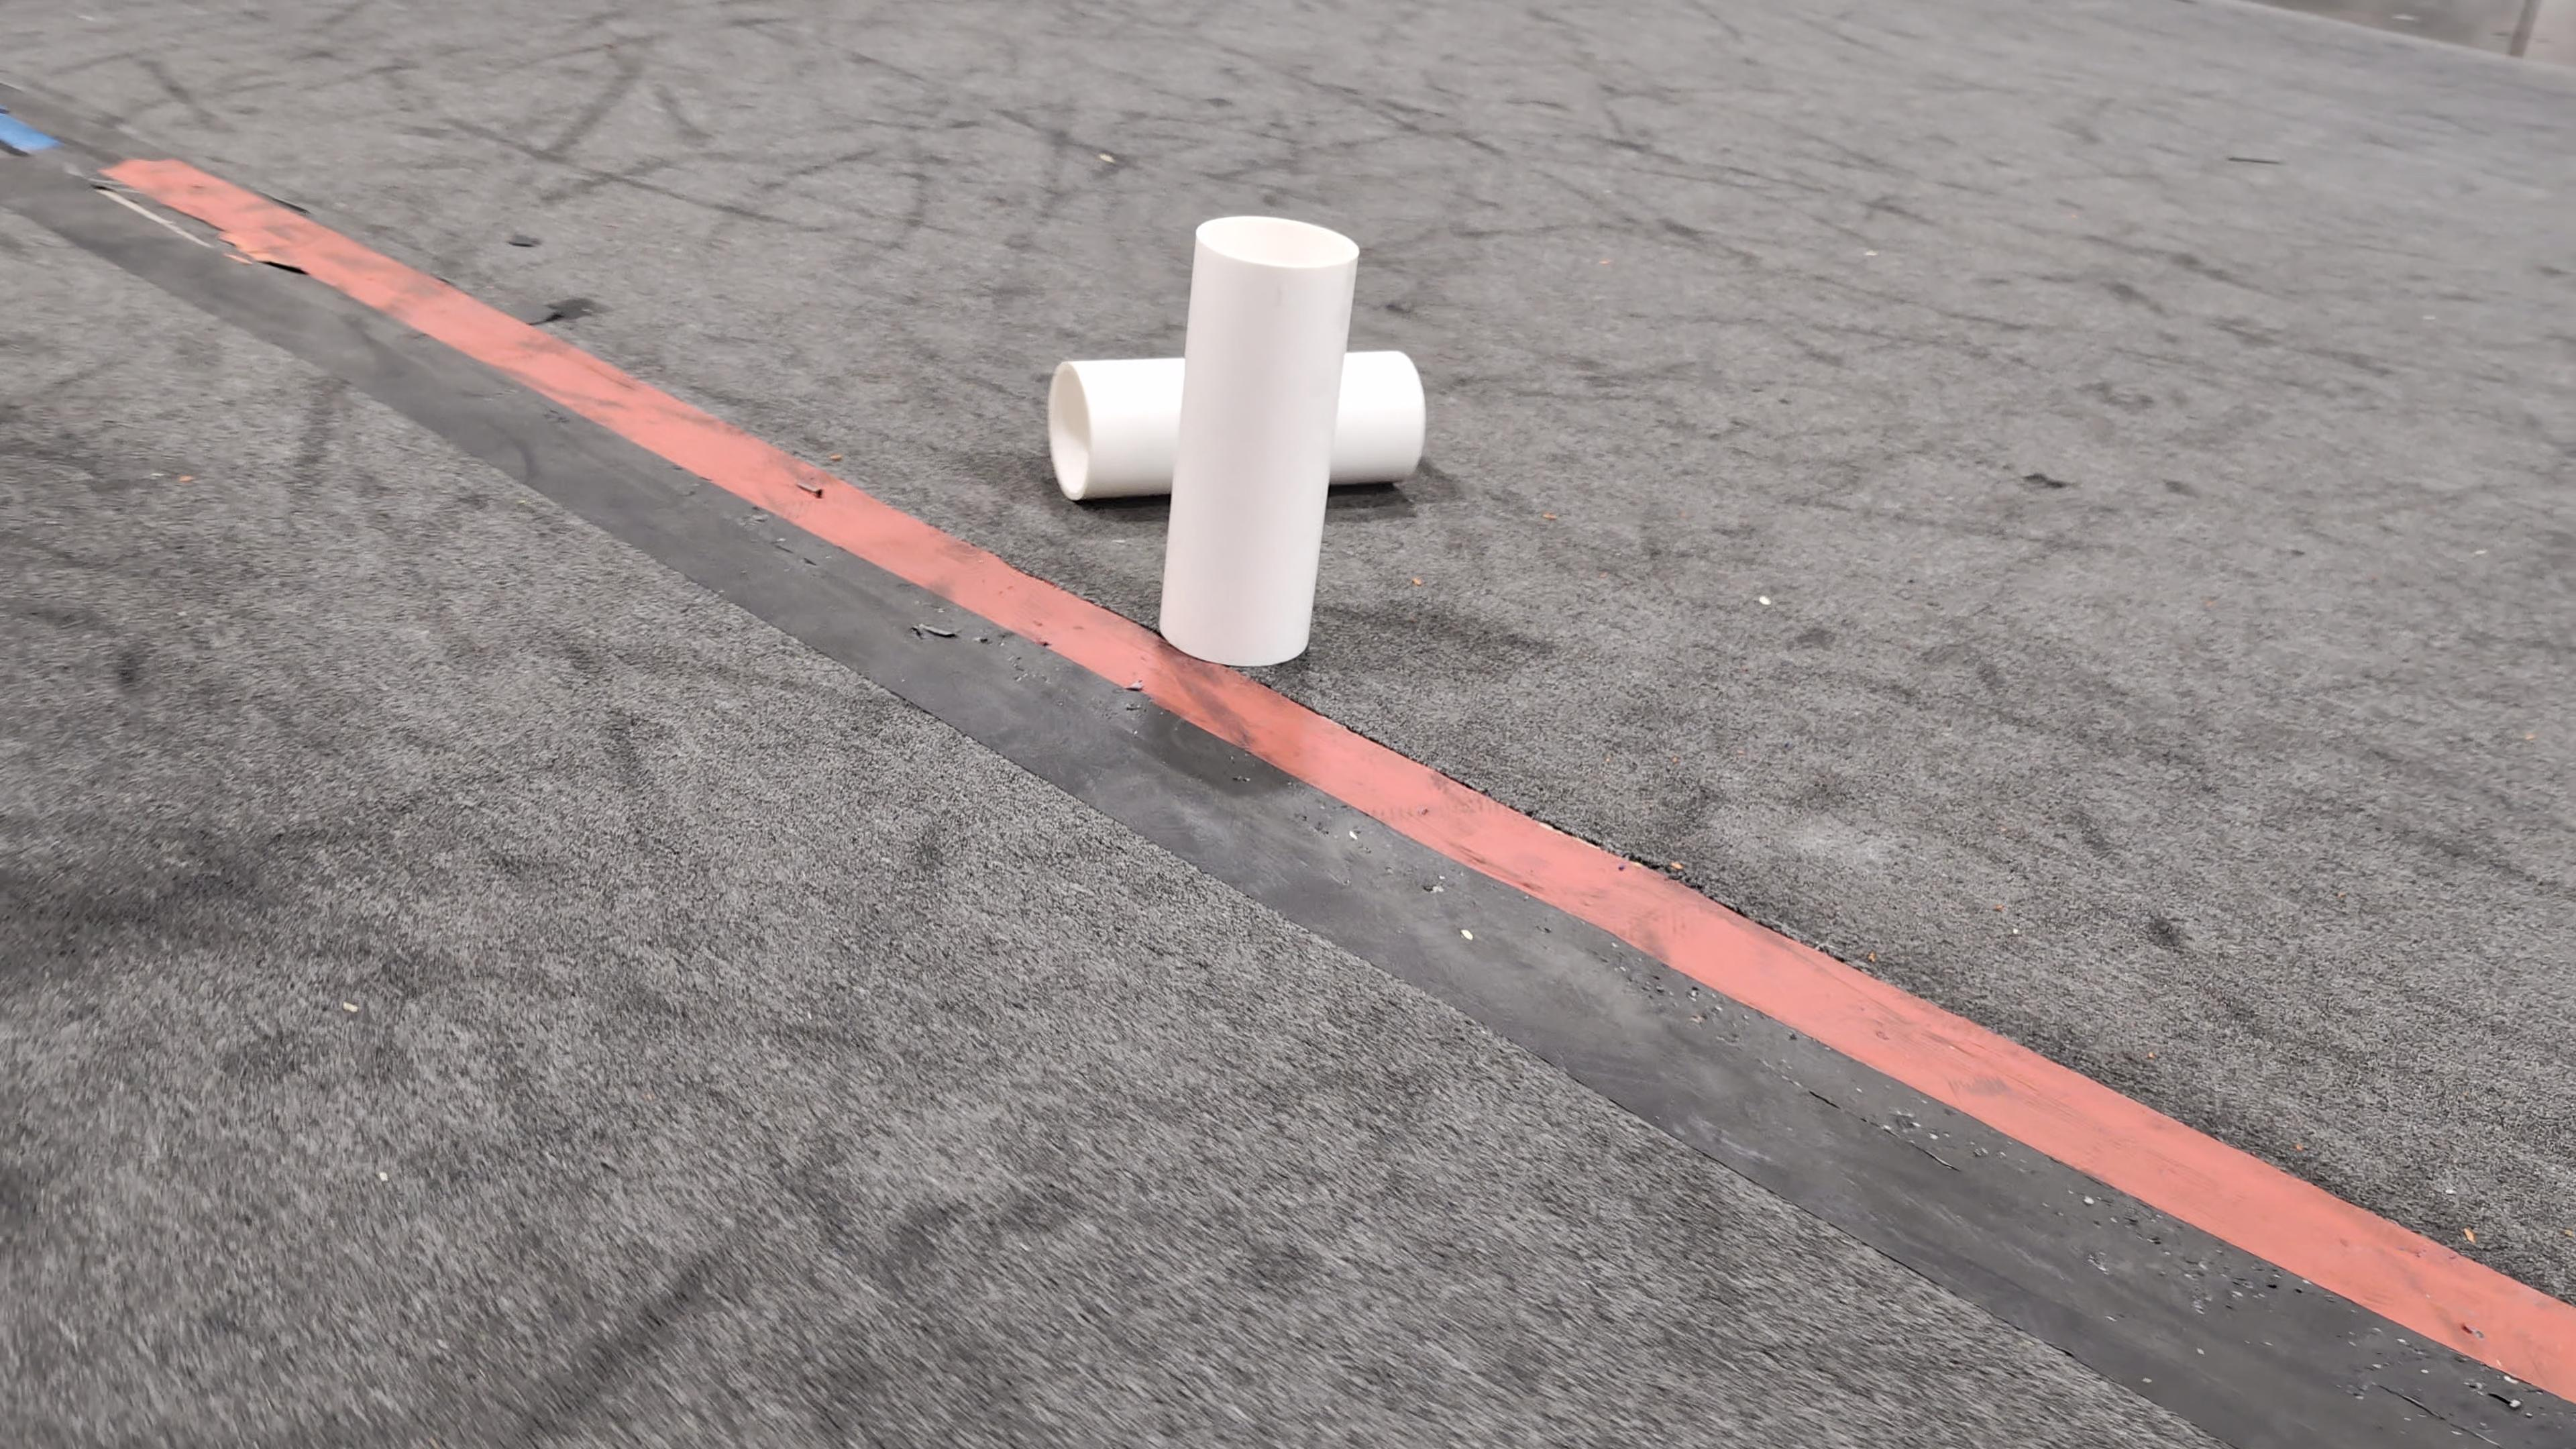coral: (1154, 211, 1362, 669)
